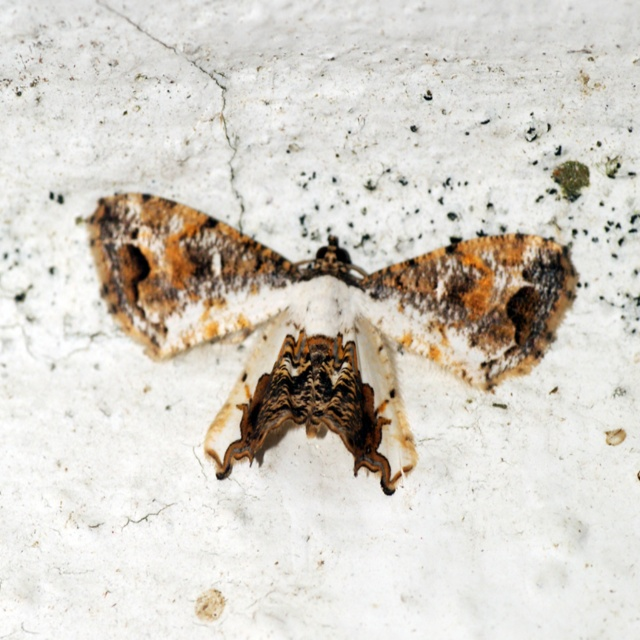Moths and butterflies: (86, 182, 582, 496)
